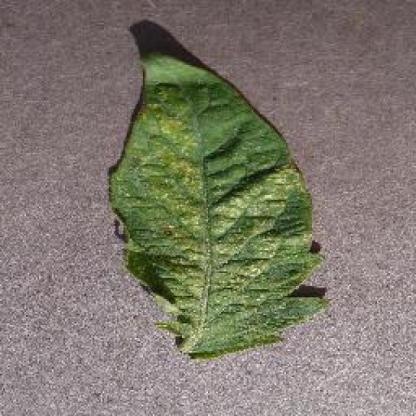Tomato_Spider_Mites: (112, 53, 324, 354)
